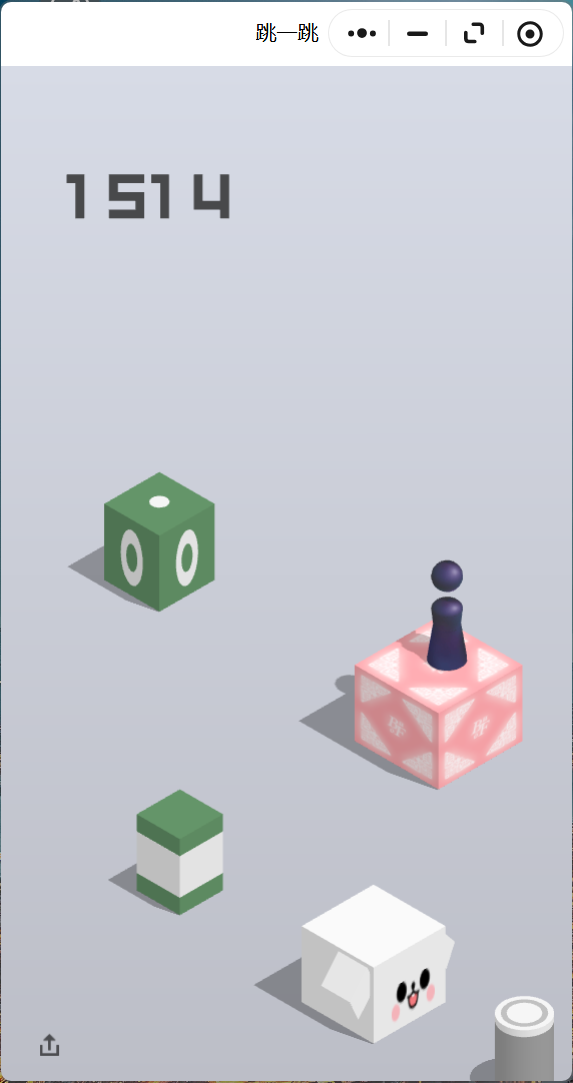piece: (431, 560, 463, 666)
target: (104, 471, 214, 534)
